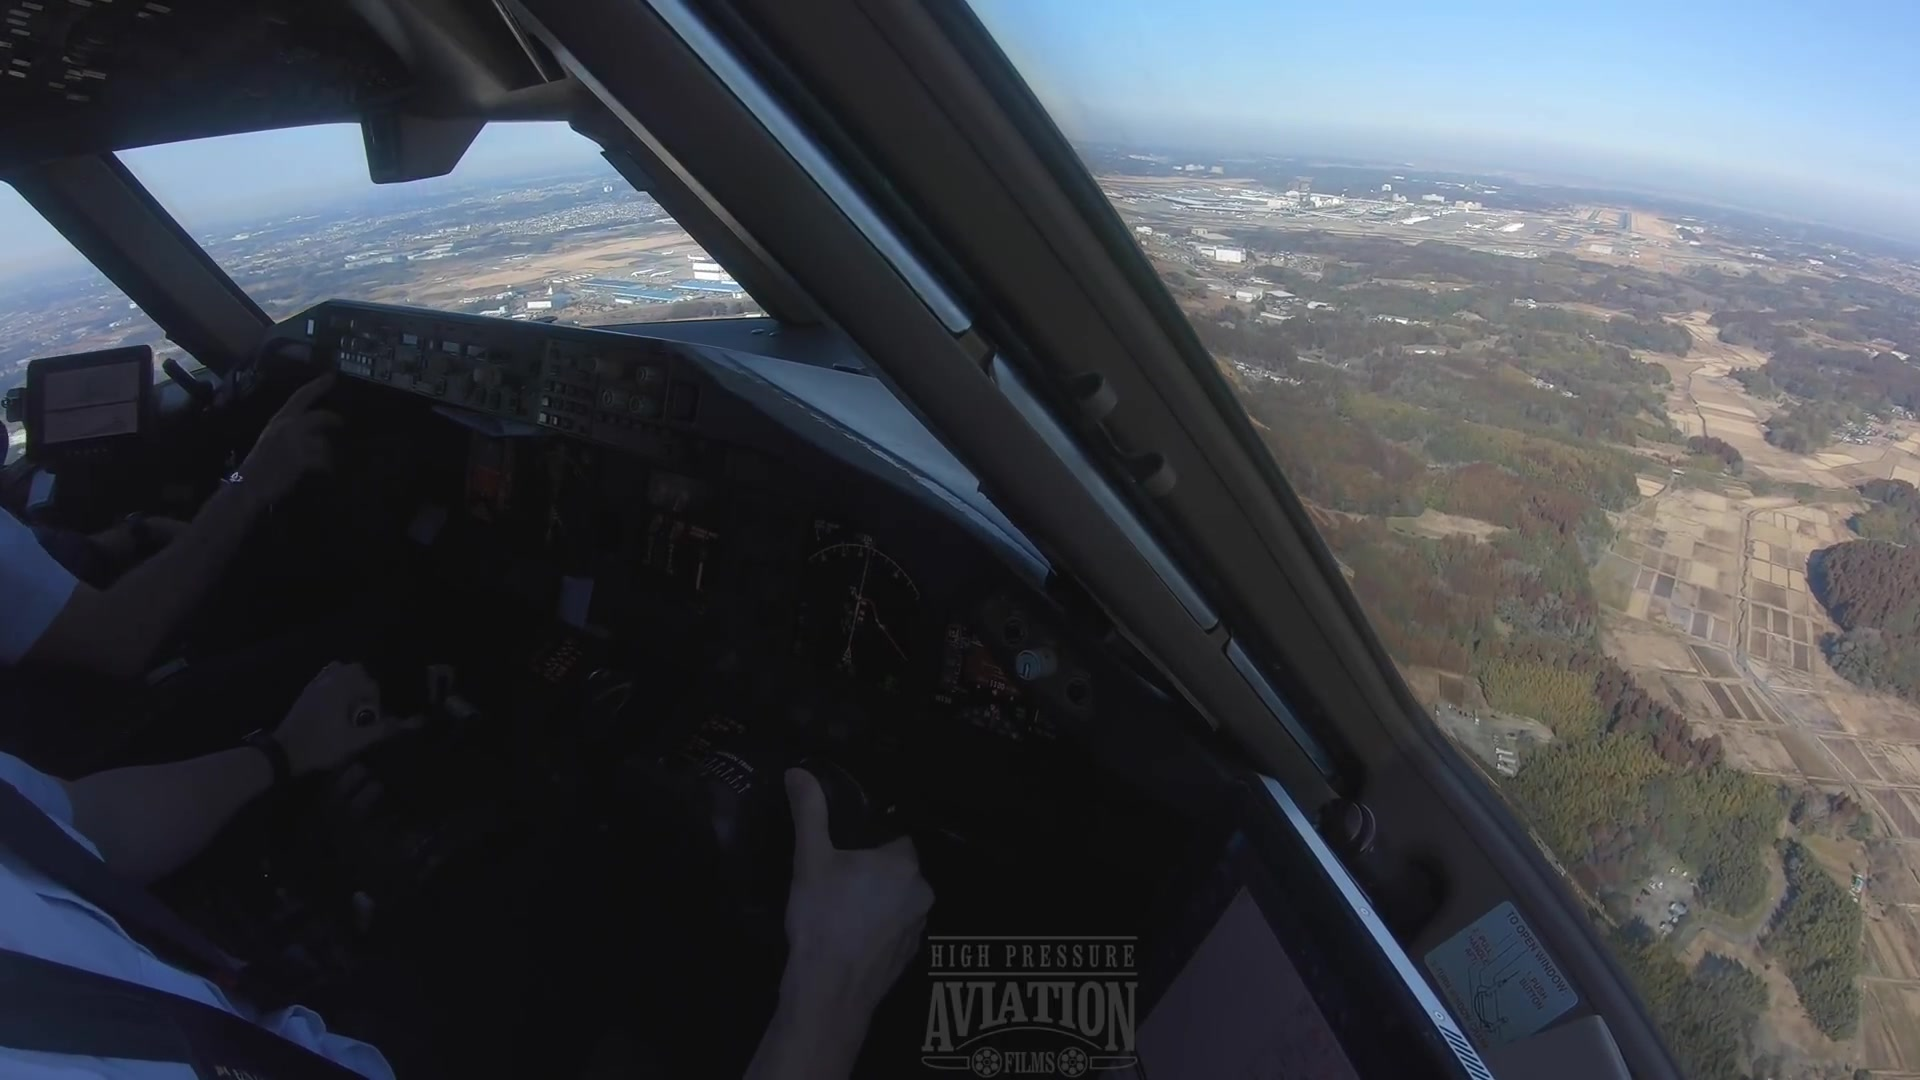runway: (1618, 208, 1634, 233), (1586, 206, 1604, 223)
